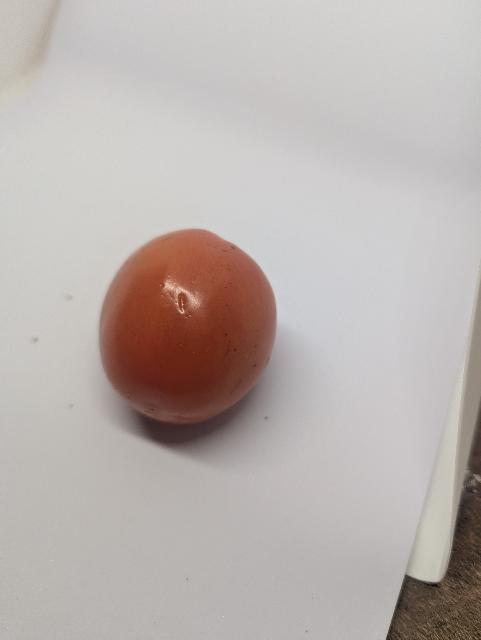red: (96, 226, 281, 431)
